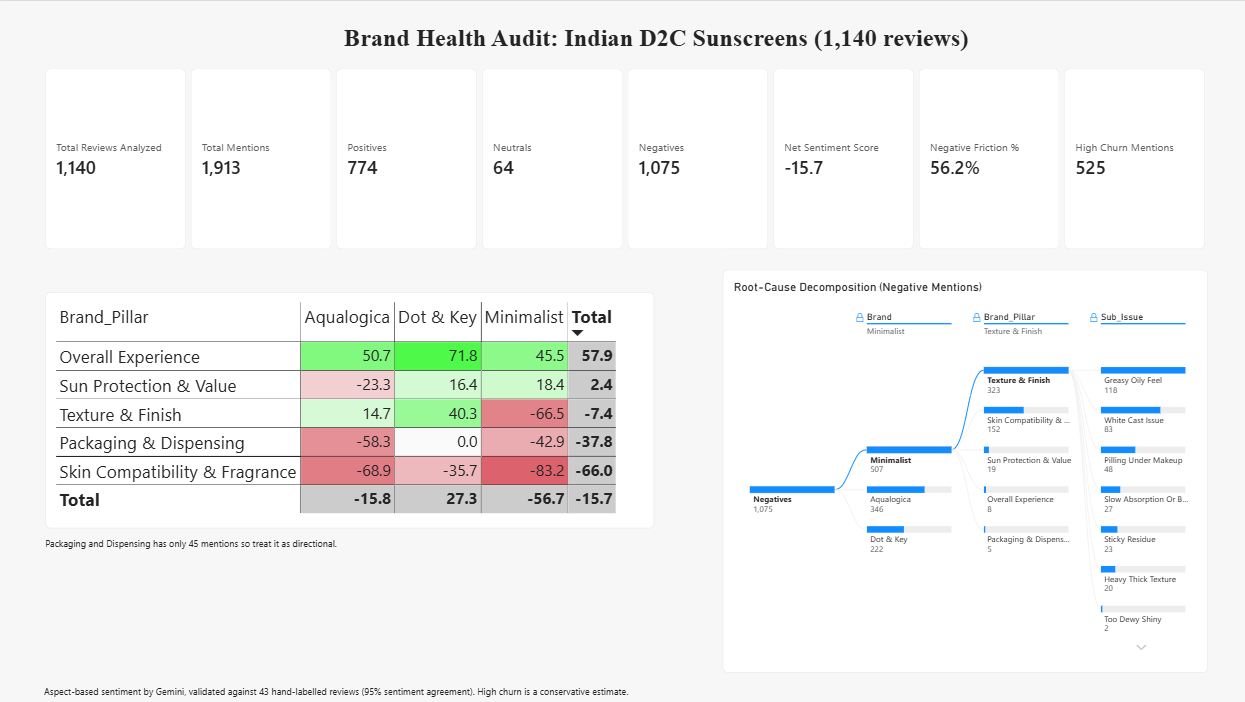

Layout of this report page (visuals, bound fields, positions):
{"tool":"powerbi","page":{"name":"Page 1","canvas":[1920,1080],"ordinal":0},"visuals":[{"type":"pivotTable","fields":{"Columns":["enriched_beauty_sentiment.Brand"],"Rows":["enriched_beauty_sentiment.Brand_Pillar"],"Values":["enriched_beauty_sentiment.Net Sentiment Score"]},"box":[71.2,448.1,936.5,363.5],"z":0},{"type":"decompositionTreeVisual","title":"Root-Cause Decomposition (Negative Mentions)","fields":{"Analyze":["enriched_beauty_sentiment.Negatives"],"ExplainBy":["enriched_beauty_sentiment.Brand","enriched_beauty_sentiment.Brand_Pillar","enriched_beauty_sentiment.Sub_Issue"]},"box":[1114,414,746,620],"z":1000},{"type":"textbox","box":[530.8,34.6,1117.3,50],"z":2000},{"type":"textbox","box":[70,1052.5,1020,27.5],"z":3000},{"type":"cardVisual","fields":{"Data":["enriched_beauty_sentiment.Total Reviews Analyzed","enriched_beauty_sentiment.Total Mentions","enriched_beauty_sentiment.Positives","enriched_beauty_sentiment.Neutrals","enriched_beauty_sentiment.Negatives","enriched_beauty_sentiment.Net Sentiment Score","enriched_beauty_sentiment.Negative Friction %","enriched_beauty_sentiment.High Churn Mentions"]},"box":[71.2,103.8,1788.5,278.8],"z":4000},{"type":"textbox","box":[71.2,825,457.7,26.9],"z":5000}]}

Visuals, with their boxes in screenshot pixels (x1, y1, x2, y2), scaled from the page's 1920x1080 canvas onto the 1245x702 screenshot:
pivotTable - enriched_beauty_sentiment.Brand x enriched_beauty_sentiment.Brand_Pillar: select_region(46, 291, 653, 528)
"Root-Cause Decomposition (Negative Mentions)" decompositionTreeVisual: select_region(722, 269, 1206, 672)
textbox: select_region(344, 22, 1069, 55)
textbox: select_region(45, 684, 707, 701)
cardVisual - enriched_beauty_sentiment.Total Reviews Analyzed x enriched_beauty_sentiment.Total Mentions: select_region(46, 67, 1206, 249)
textbox: select_region(46, 536, 343, 554)
